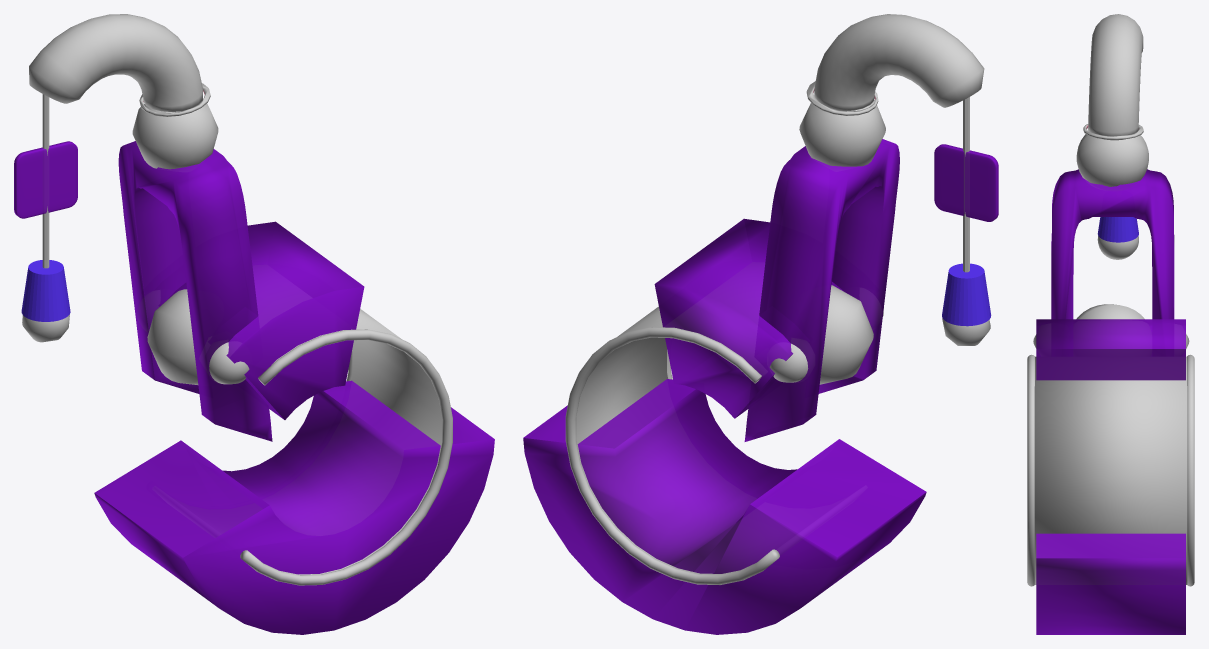
File: desen_tool2.obj
3 renders of one model, left to right at view 1: azimuth 30°, elevation 25°; view 2: azimuth 150°, elevation 25°; view 3: azimuth 270°, elevation 25°, orthographic. The views are drawn at different scales.
Visible parts, largest first — view 1: Sphere.004_Material.007, Sphere.004_shiny1, Sphere.004_Material.014, Sphere.004_metal; view 2: Sphere.004_Material.007, Sphere.004_shiny1, Sphere.004_Material.014, Sphere.004_metal; view 3: Sphere.004_shiny1, Sphere.004_Material.007, Sphere.004_Material.014, Sphere.004_metal.
Part boxes in pixels (x1,y1,x2,y2): Sphere.004_Material.007: [14, 141, 494, 634]; Sphere.004_shiny1: [29, 14, 452, 585]; Sphere.004_Material.014: [21, 260, 70, 321]; Sphere.004_metal: [22, 314, 69, 342]; Sphere.004_Material.007: [523, 139, 998, 634]; Sphere.004_shiny1: [565, 14, 984, 584]; Sphere.004_Material.014: [942, 263, 991, 326]; Sphere.004_metal: [942, 318, 990, 345]; Sphere.004_shiny1: [1027, 14, 1194, 586]; Sphere.004_Material.007: [1036, 169, 1185, 634]; Sphere.004_Material.014: [1097, 217, 1138, 242]; Sphere.004_metal: [1097, 236, 1138, 259].
Bounding box in the file's own units: 20.28 × 27.93 × 8.1.
